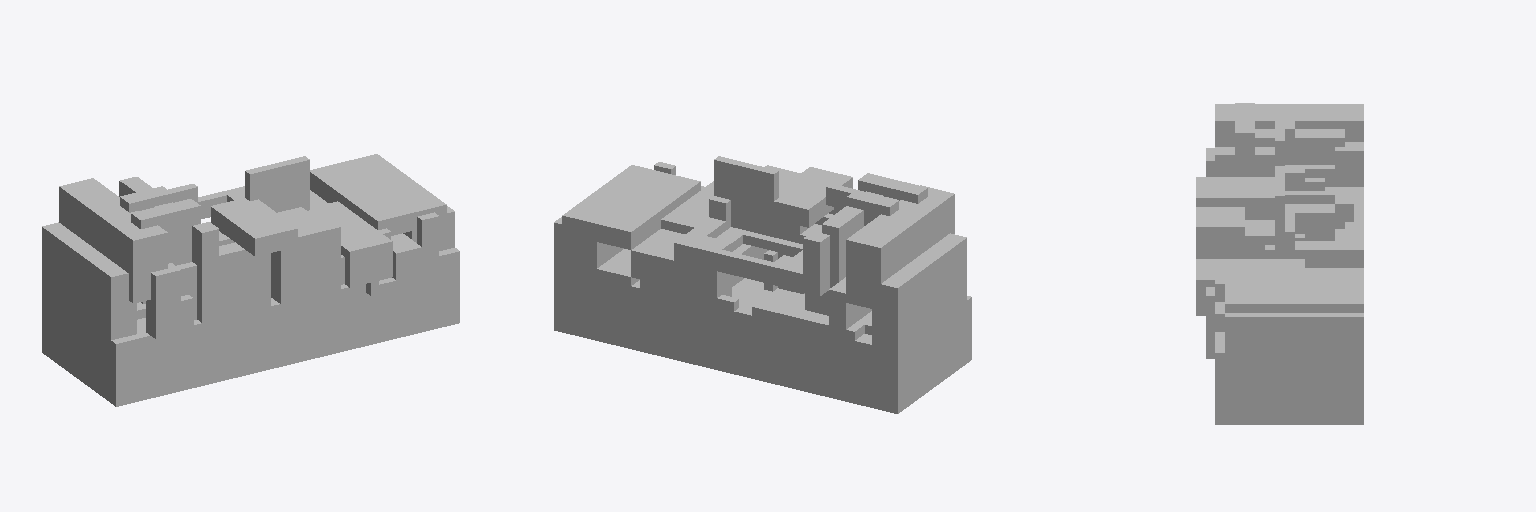
Rendered from outter tiel-122.obj.
The picture shows the model from 3 angles: view 1: azimuth 30°, elevation 25°; view 2: azimuth 150°, elevation 25°; view 3: azimuth 270°, elevation 25°; orthographic projection.
Visible parts, largest first — view 1: outter tiel-122; view 2: outter tiel-122; view 3: outter tiel-122.
Part boxes in pixels (x1,y1,x2,y2): outter tiel-122: (42, 154, 459, 406); outter tiel-122: (554, 156, 971, 413); outter tiel-122: (1196, 103, 1363, 424).
Size of the model in its own units: 40 by 19 by 17.